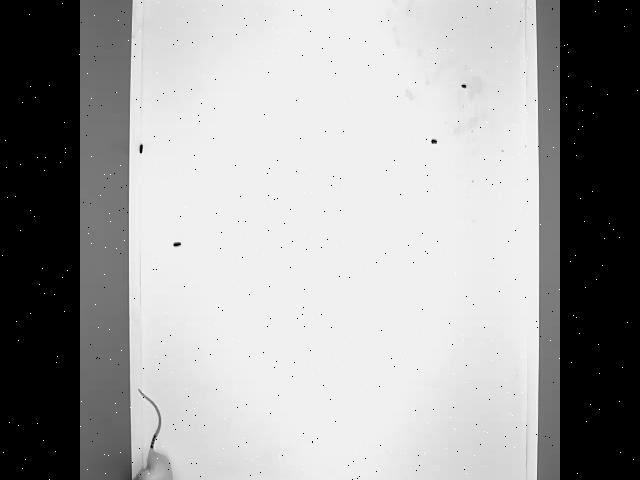Tikus: (128, 381, 172, 480)
